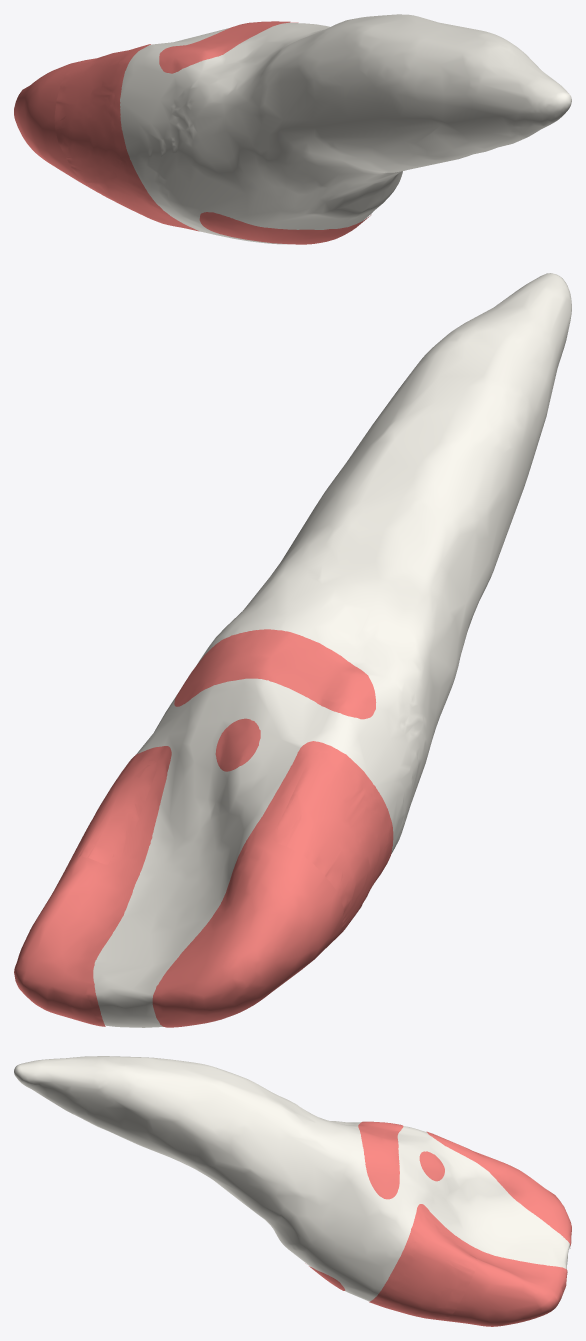
File: tooth_11_FMA55681.glb
3 views of the same model, one above another, from view 1: azimuth 30°, elevation 25°; view 2: azimuth 150°, elevation 25°; view 3: azimuth 270°, elevation 25° (orthographic). The views are drawn at different scales.
Parts seen in each view (by area): view 1: tooth_11, class4_distal, class3_distal, class5_facial, class5_lingual; view 2: tooth_11, class4_distal, class4_mesial, class5_lingual, class3_distal, class3_mesial, class1_lingual_pit; view 3: tooth_11, class4_mesial, class3_mesial, class4_distal, class5_lingual, class1_lingual_pit.
Boxes of the visible parts, x1=… form: tooth_11: x1=120, y1=14, x2=571, y2=244; class4_distal: x1=14, y1=44, x2=199, y2=231; class3_distal: x1=54, y1=48, x2=182, y2=225; class5_facial: x1=199, y1=212, x2=371, y2=244; class5_lingual: x1=159, y1=21, x2=298, y2=73; tooth_11: x1=93, y1=273, x2=571, y2=1027; class4_distal: x1=152, y1=741, x2=393, y2=1027; class4_mesial: x1=14, y1=746, x2=171, y2=1026; class5_lingual: x1=174, y1=629, x2=376, y2=719; class3_distal: x1=272, y1=752, x2=390, y2=938; class3_mesial: x1=70, y1=756, x2=157, y2=865; class1_lingual_pit: x1=215, y1=718, x2=260, y2=771; tooth_11: x1=14, y1=1056, x2=570, y2=1301; class4_mesial: x1=369, y1=1204, x2=567, y2=1326; class3_mesial: x1=374, y1=1214, x2=477, y2=1320; class4_distal: x1=426, y1=1131, x2=571, y2=1248; class5_lingual: x1=358, y1=1121, x2=403, y2=1199; class1_lingual_pit: x1=419, y1=1151, x2=444, y2=1181.
Bounding box in the file's own units: 8.45 × 12.22 × 24.97.
